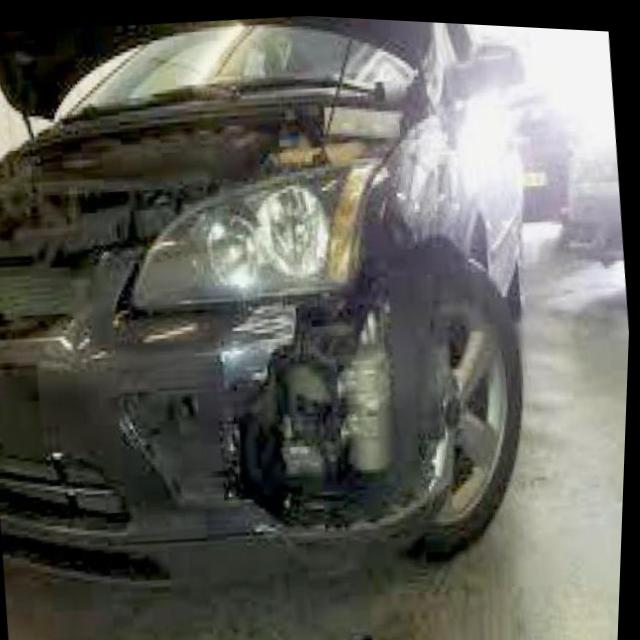Car-Damage: (117, 176, 475, 587)
